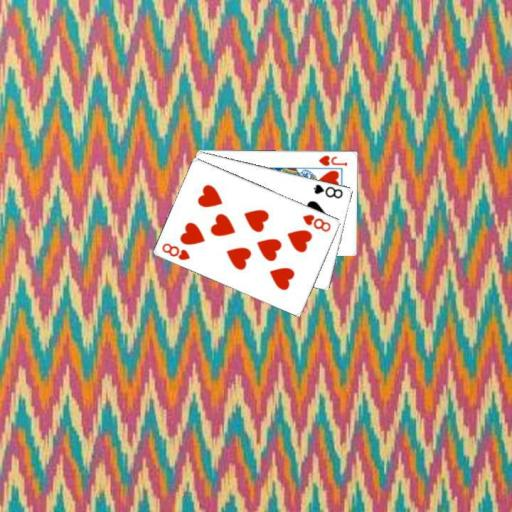8H: (299, 211, 333, 233), (159, 240, 192, 262)
8S: (310, 181, 345, 200)
JH: (316, 152, 348, 167)
